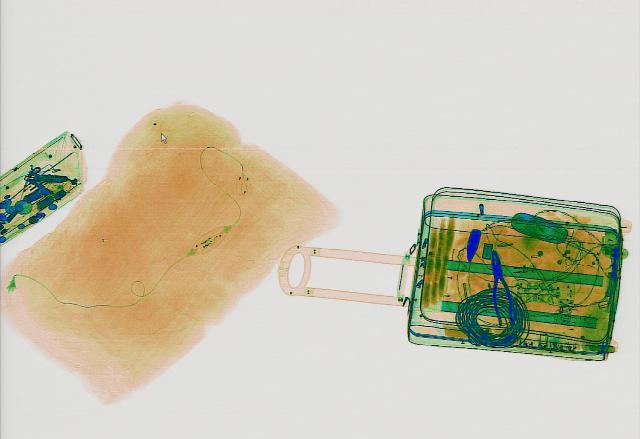Pliers: (483, 250, 517, 326)
